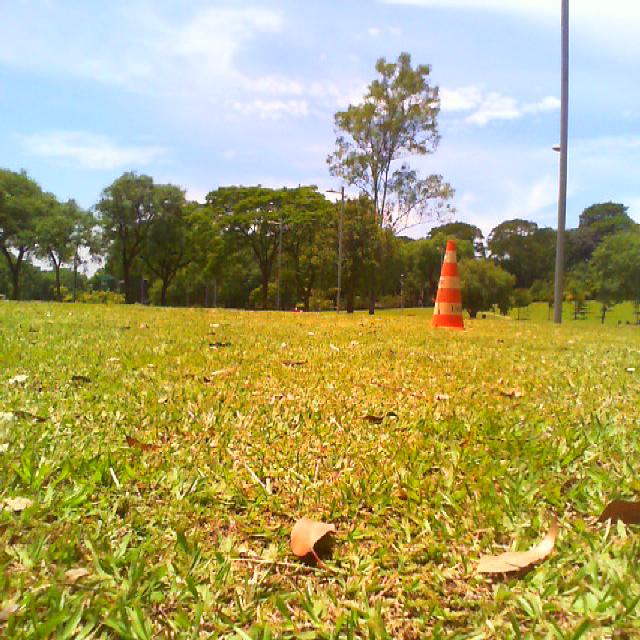cone: (432, 240, 465, 328)
